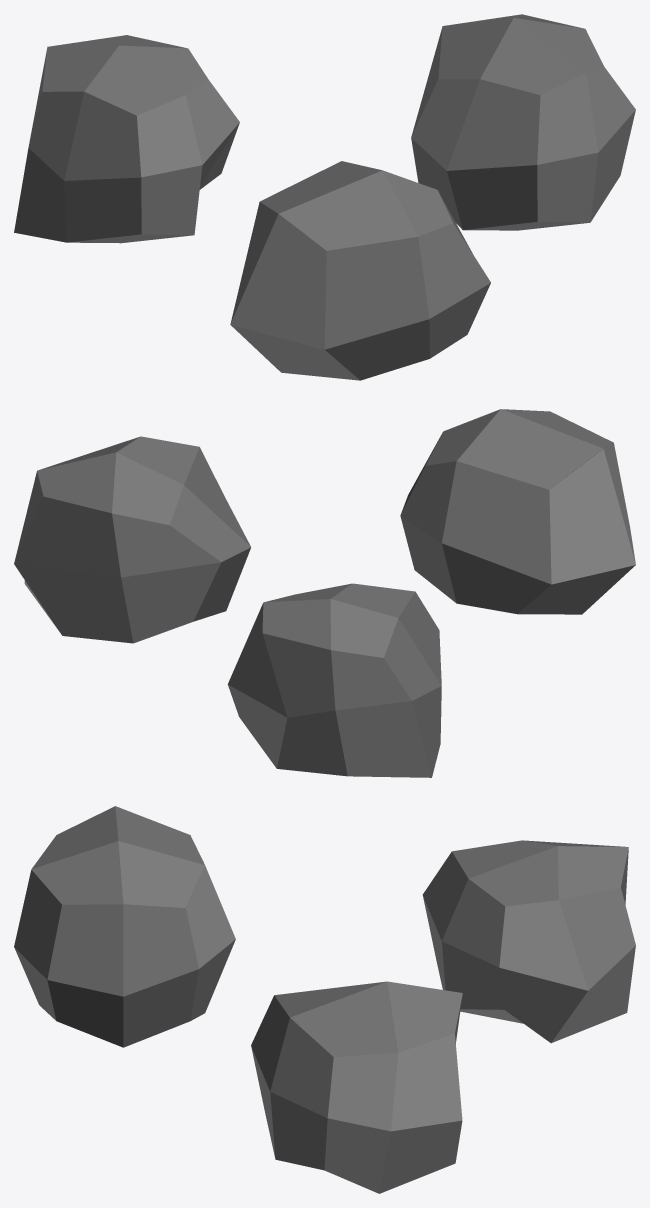
The model's file is rock.fbx.
3 views of the same model, one above another, from view 1: azimuth 30°, elevation 25°; view 2: azimuth 150°, elevation 25°; view 3: azimuth 270°, elevation 25° (orthographic). The views are drawn at different scales.
Visible parts, largest first — view 1: Cube, Cube.001, Cube.002; view 2: Cube, Cube.001, Cube.002; view 3: Cube, Cube.001, Cube.002.
Boxes of the visible parts, x1,y1,x2,y2 form: Cube: (230,161,490,380); Cube.001: (411,14,635,230); Cube.002: (14,35,239,243); Cube: (400,409,635,614); Cube.001: (14,436,251,643); Cube.002: (227,583,441,777); Cube: (14,806,235,1047); Cube.001: (251,981,462,1193); Cube.002: (422,840,635,1043).
Size of the model in its own units: 150 by 58.85 by 158.
Materials: 1 (1 with a texture image).
